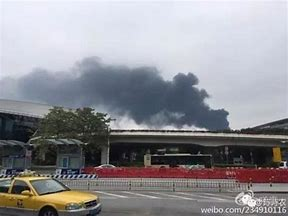smoke: (25, 59, 233, 128)
